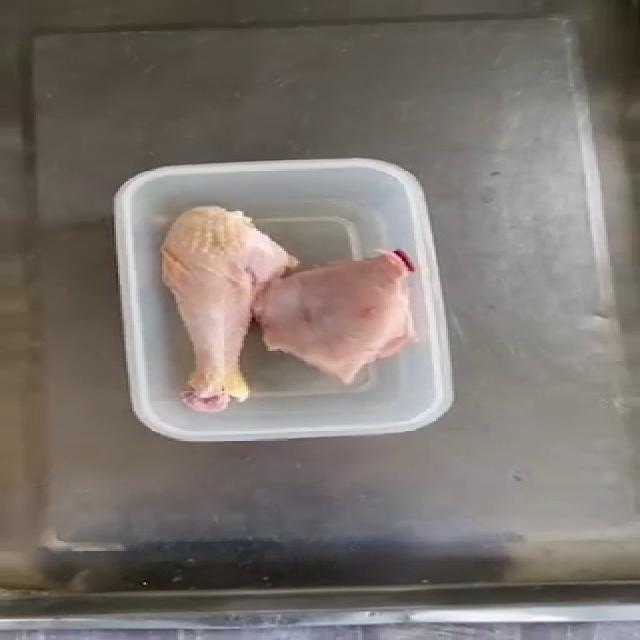chicken: (148, 200, 408, 409)
